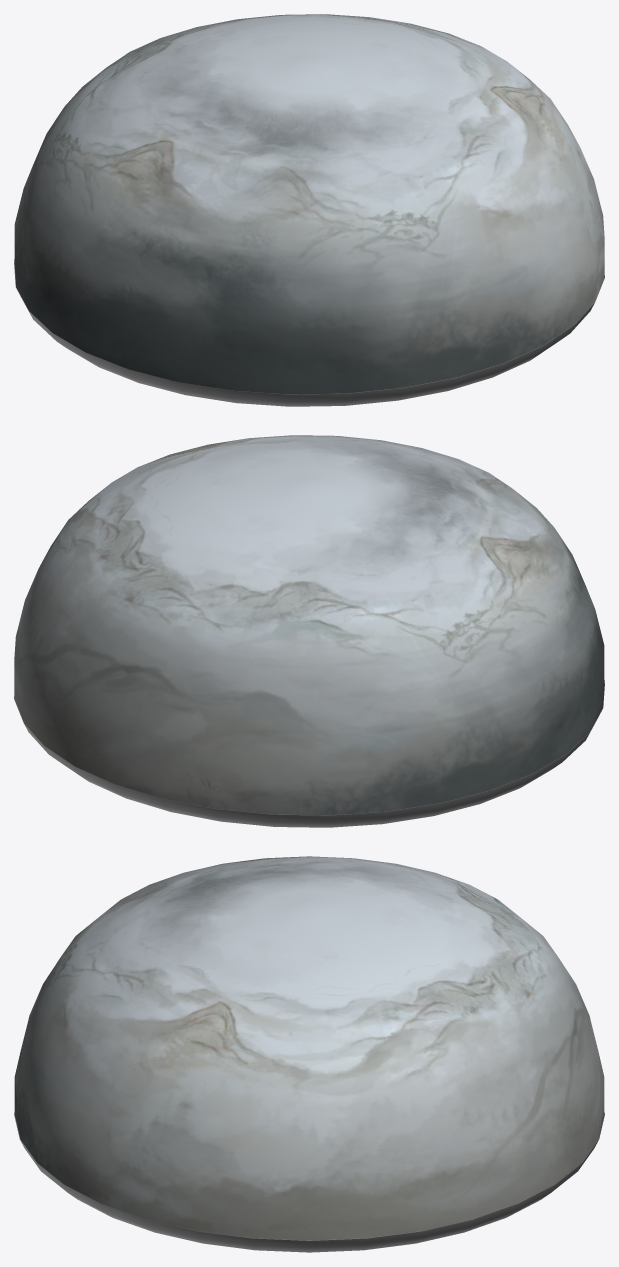
The model's file is Sky_MainScreen_BG_Mesh.FBX.
3 views of the same model, one above another, from view 1: azimuth 30°, elevation 25°; view 2: azimuth 150°, elevation 25°; view 3: azimuth 270°, elevation 25° (orthographic).
Parts seen in each view (by area): view 1: QueenSkyBox_Mesh, Object001; view 2: QueenSkyBox_Mesh, Object001; view 3: QueenSkyBox_Mesh, Object001.
Boxes of the visible parts, x1=… form: QueenSkyBox_Mesh: x1=14, y1=14, x2=604, y2=394; Object001: x1=14, y1=262, x2=604, y2=406; QueenSkyBox_Mesh: x1=14, y1=435, x2=604, y2=815; Object001: x1=14, y1=683, x2=604, y2=827; QueenSkyBox_Mesh: x1=14, y1=856, x2=604, y2=1240; Object001: x1=14, y1=1112, x2=604, y2=1252.
Size of the model in its own units: 4069 by 1894 by 4032.
2 materials, 1 textured.
